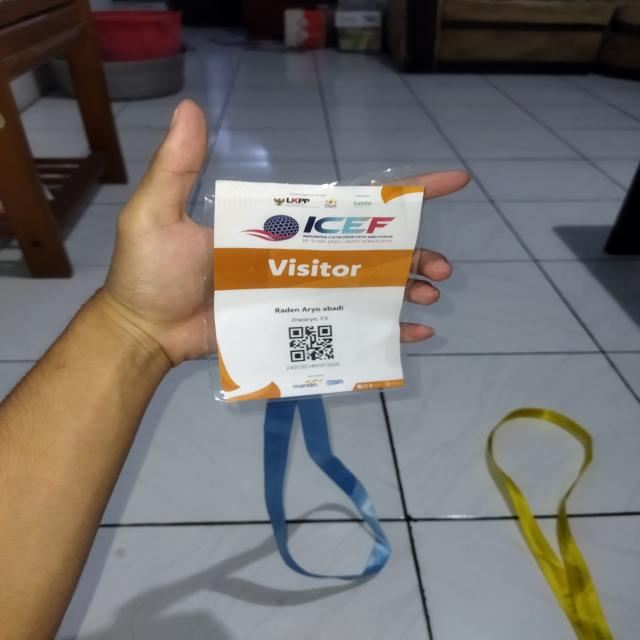ID_card: (209, 179, 425, 403)
